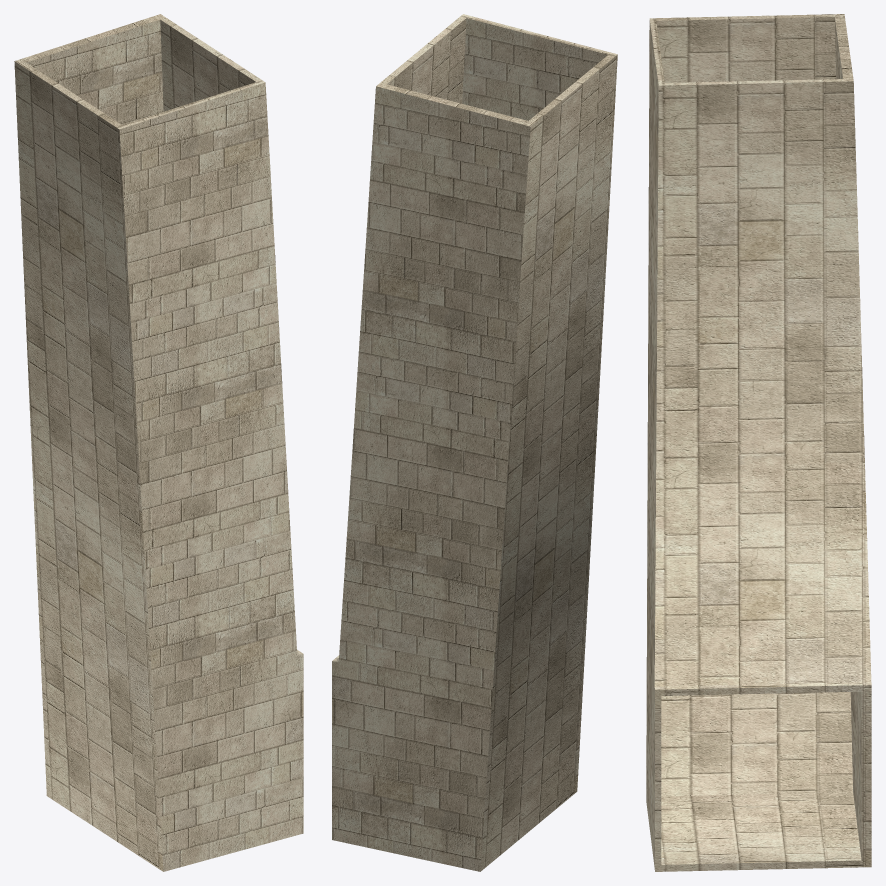
The model's file is walls_113.fbx.
3 views of the same model, side by side, from view 1: azimuth 30°, elevation 25°; view 2: azimuth 150°, elevation 25°; view 3: azimuth 270°, elevation 25° (orthographic).
Parts seen in each view (by area): view 1: walls_113; view 2: walls_113; view 3: walls_113.
Boxes of the visible parts, x1,y1,x2,y2 form: walls_113: (14,14,303,871); walls_113: (332,14,617,871); walls_113: (646,14,871,871).
Size of the model in its own units: 307 by 1139 by 303.
